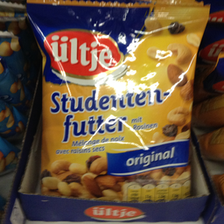nuts: (25, 1, 210, 202)
